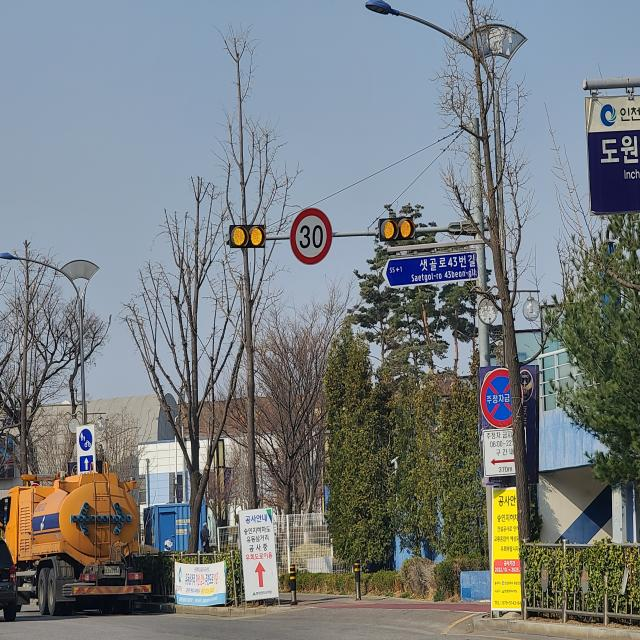Yellow Light: (232, 226, 246, 248), (250, 224, 263, 247), (382, 219, 396, 239), (399, 219, 412, 239)
